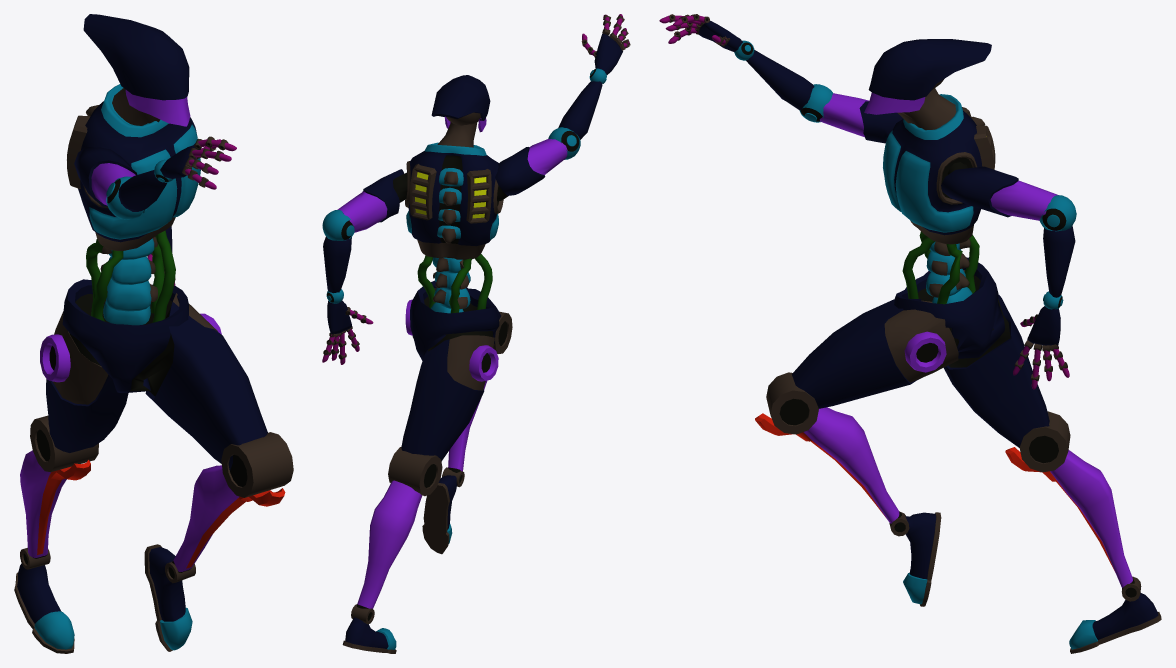
Rendered from OBJ_PersoPose_5.fbx.
3 renders of one model, left to right at view 1: azimuth 30°, elevation 25°; view 2: azimuth 150°, elevation 25°; view 3: azimuth 270°, elevation 25°, orthographic. The views are drawn at different scales.
Parts seen in each view (by area): view 1: OBJ_PersoPose_5; view 2: OBJ_PersoPose_5; view 3: OBJ_PersoPose_5.
Part boxes in pixels (x1,y1,x2,y2): OBJ_PersoPose_5: [14, 14, 293, 653]; OBJ_PersoPose_5: [322, 14, 630, 653]; OBJ_PersoPose_5: [659, 14, 1161, 653].
Bounding box in the file's own units: 21.68 × 72.53 × 54.31.
